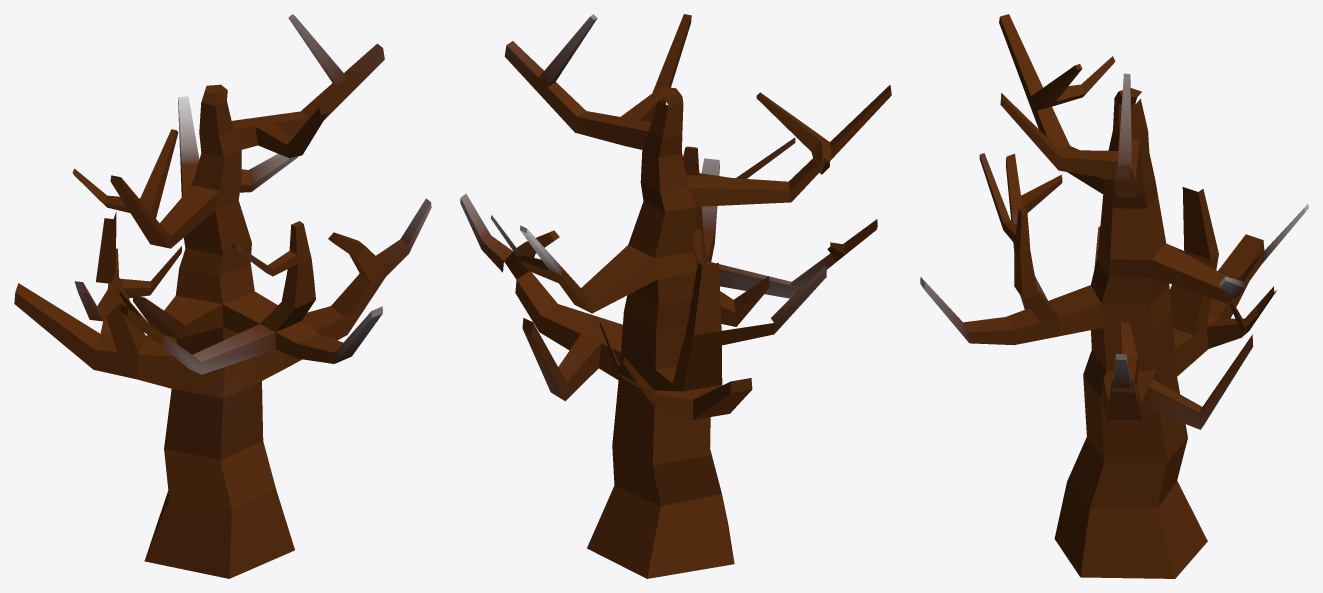
Rendered from Dead_2.glb.
3 views of the same model, side by side, from view 1: azimuth 30°, elevation 25°; view 2: azimuth 150°, elevation 25°; view 3: azimuth 270°, elevation 25° (orthographic).
Visible parts, largest first — view 1: Dead_2; view 2: Dead_2; view 3: Dead_2.
Part boxes in pixels (left/top/right/bottom): Dead_2: left=14, top=14, right=431, bottom=578; Dead_2: left=460, top=14, right=891, bottom=578; Dead_2: left=920, top=14, right=1308, bottom=578.
Size of the model in its own units: 3.46 by 4.61 by 3.1.
